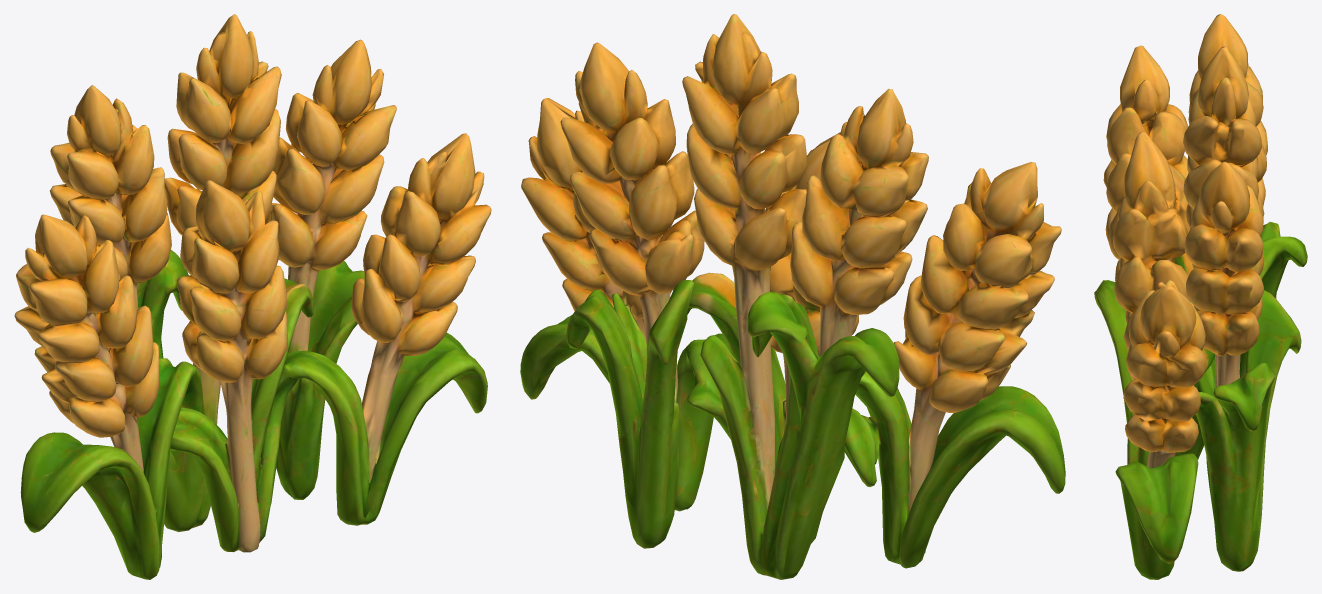
The model's file is wheat-mature.glb.
The picture shows the model from 3 angles, left to right: view 1: azimuth 30°, elevation 25°; view 2: azimuth 150°, elevation 25°; view 3: azimuth 270°, elevation 25°; orthographic projection. The views are drawn at different scales.
Size of the model in its own units: 1.9 by 1.9 by 0.7573.
1 material, 1 textured.
